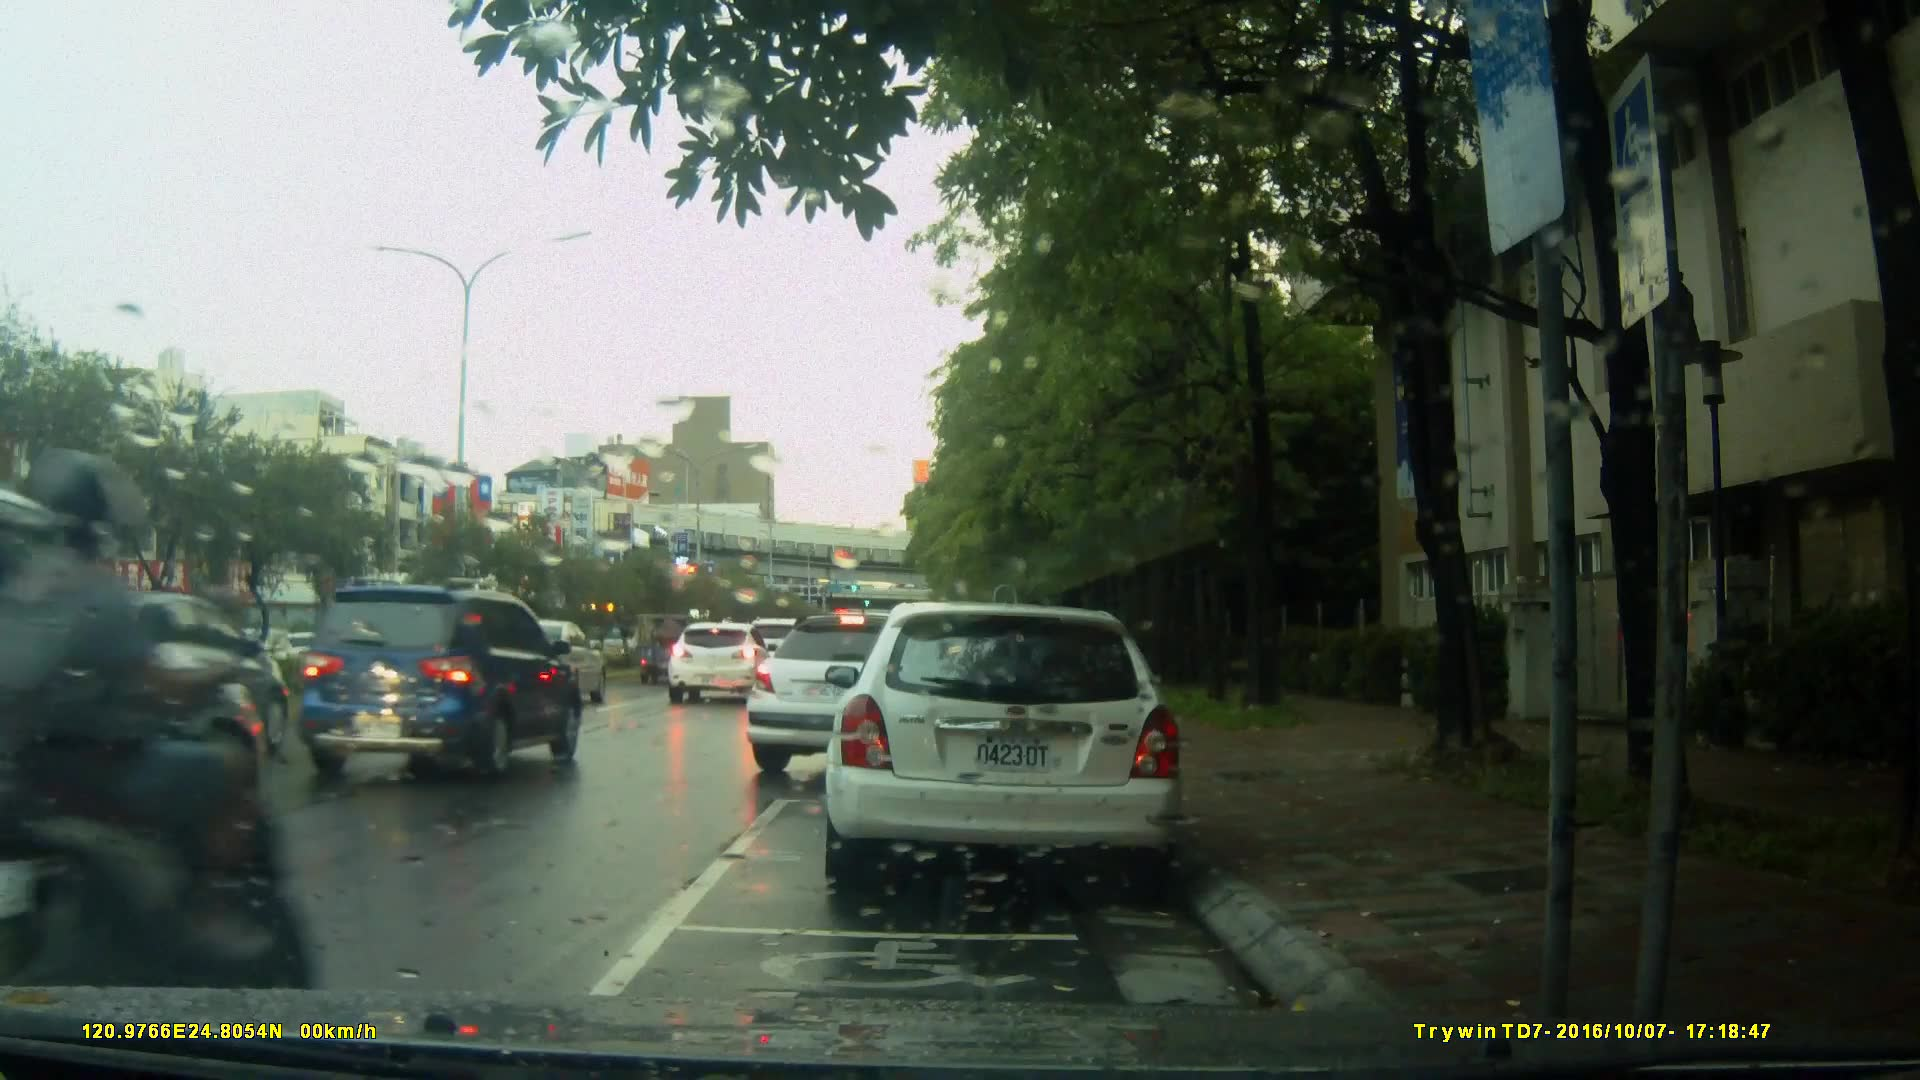rider: (1, 448, 316, 1069)
vehicle: (1, 471, 278, 968), (820, 602, 1188, 898), (290, 575, 588, 780), (740, 611, 1022, 786), (666, 620, 770, 706)
